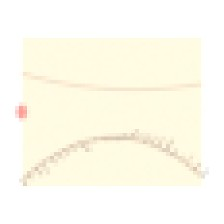pinguecula_lesion: (139, 94, 178, 125)
